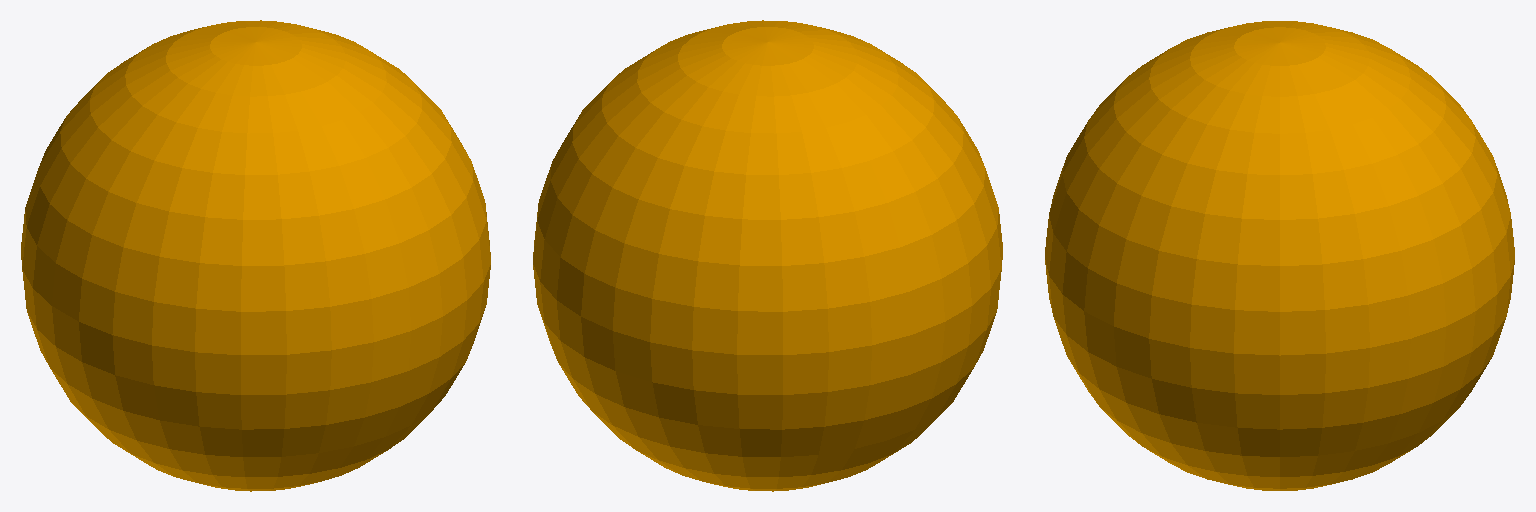
The robot description file, URDF, robot "Point2":
<?xml version="1.0"?>
<robot name="Point2">
  <link name="Point2">
    <inertial>
      <origin xyz="0 0 0" /> 
      <mass value="0.1" />
      <inertia  ixx="1.0" ixy="0.0"  ixz="0.0"  iyy="1.0"  iyz="0.0"  izz="1.0" />
    </inertial>
    <visual>
      <origin xyz="-0.0140815 0.027341 -0.80963141" rpy="0 0 0"/>
      <geometry>
        <sphere radius="0.01"/>
      </geometry>
    </visual>
    <collision>
      <origin xyz="-0.0140815 0.027341 -0.80963141" rpy="0 0 0"/>
      <geometry>
        <sphere radius="0"/>
      </geometry>
    </collision>
  </link>
  <gazebo reference="Point2">
    <material>Gazebo/Red</material>
    <turnGravityOff>true</turnGravityOff>
  </gazebo>
</robot>

--- Render facts (derived) ---
The picture shows the robot from 3 angles, left to right: view 1: azimuth 30°, elevation 25°; view 2: azimuth 150°, elevation 25°; view 3: azimuth 270°, elevation 25°; orthographic projection.
Model Point2 with 1 links and 0 joints (none), rooted at Point2, posed every joint at zero.
Visible links, largest first — view 1: Point2; view 2: Point2; view 3: Point2.
Boxes of the visible links, left/top/right/bottom form: Point2: left=21, top=20, right=490, bottom=491; Point2: left=533, top=20, right=1002, bottom=491; Point2: left=1045, top=21, right=1514, bottom=490.
Size in the robot's own frame: 0.02 by 0.02 by 0.02 metres.
Geometry: primitives only (box / cylinder / sphere), no mesh files.